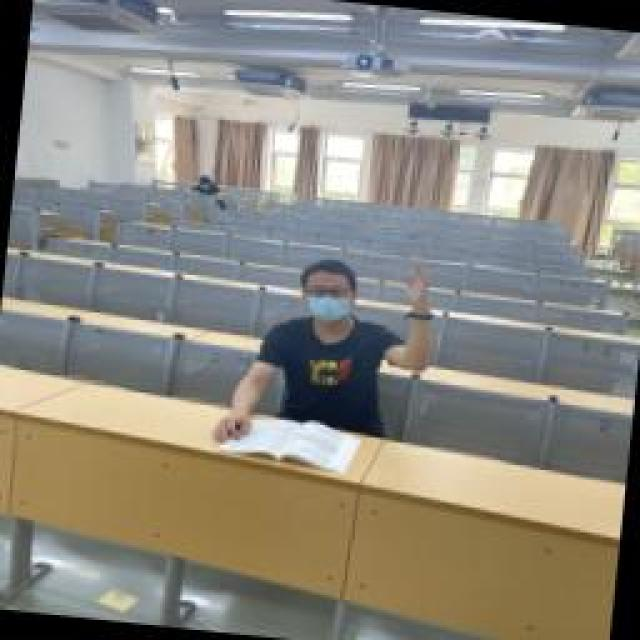study: (212, 245, 440, 477)
